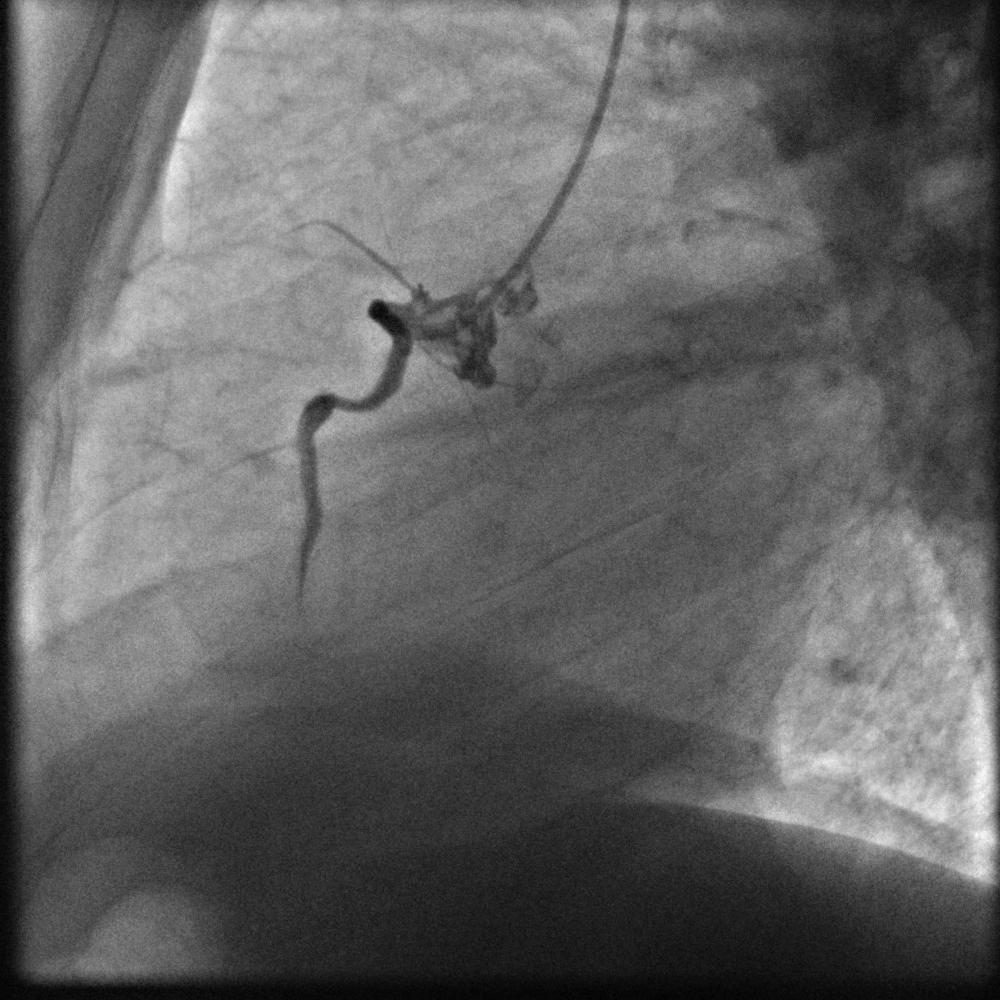Stenosis: (331, 389, 370, 414)
